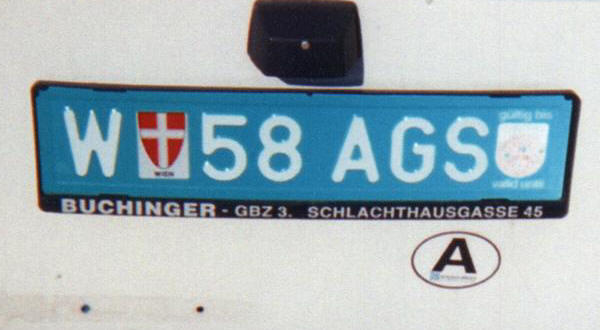license_plate: (31, 82, 578, 210)
